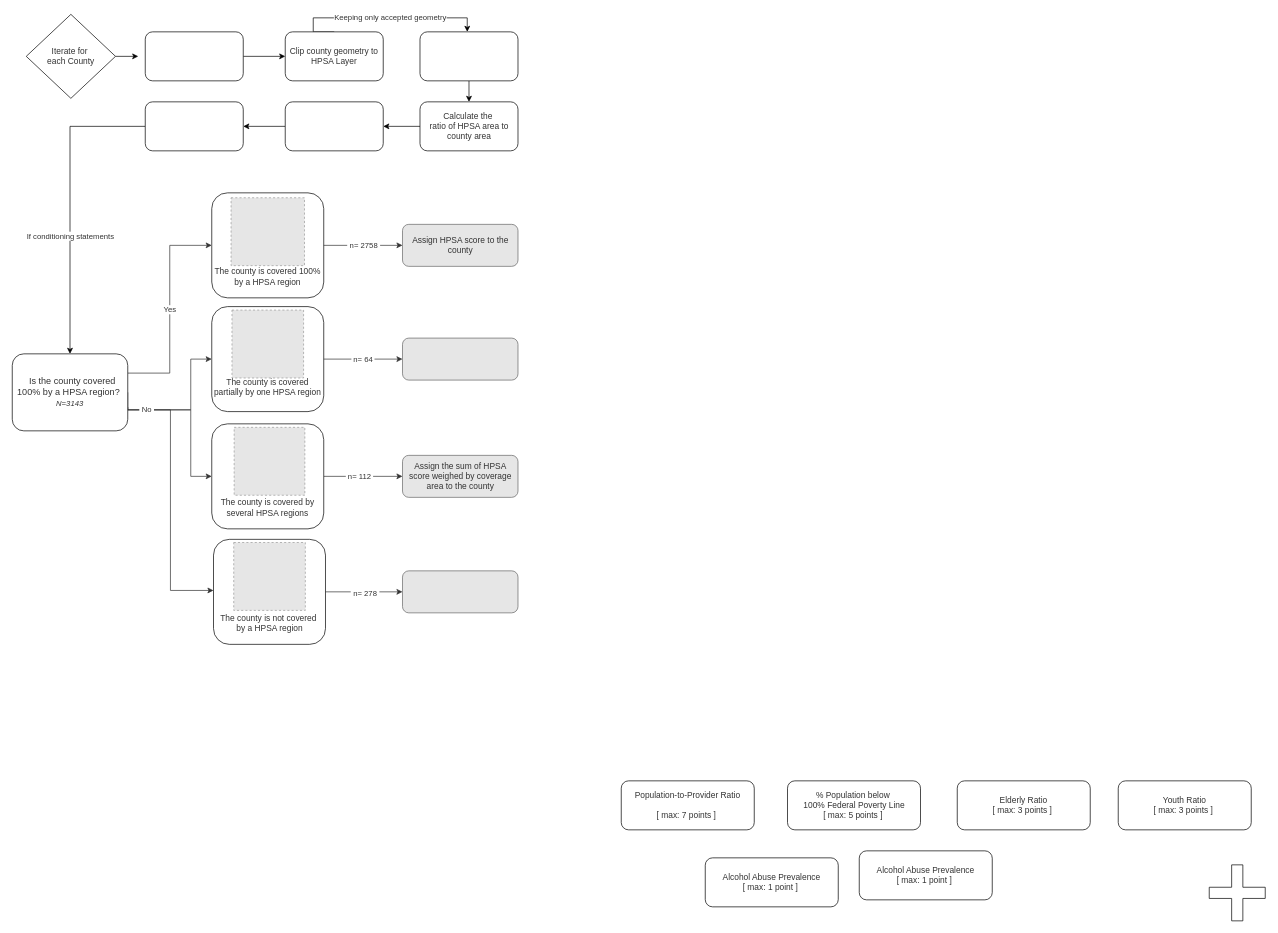
The diagram is 1278 pixels wide and 933 high, and some of its shapes have lost their labels. Grey dashed boxes stand in for pictures. Here are the shapes that lost their labels. From the top down, the centre of each, then its label:
At point 194,56: "Calculate the county area (sq. km)".
At point 468,56: "Calculate the area of clipped polygons".
At point 194,126: "Count number of polygons remainding".
At point 334,126: "Remove polygons with ratios less than 0.005 or greater than 1.05".
At point 460,358: "Assign HPSA score weighed by coverage area to the county".
At point 460,591: "Assign value of zero to the county HPSA score".
